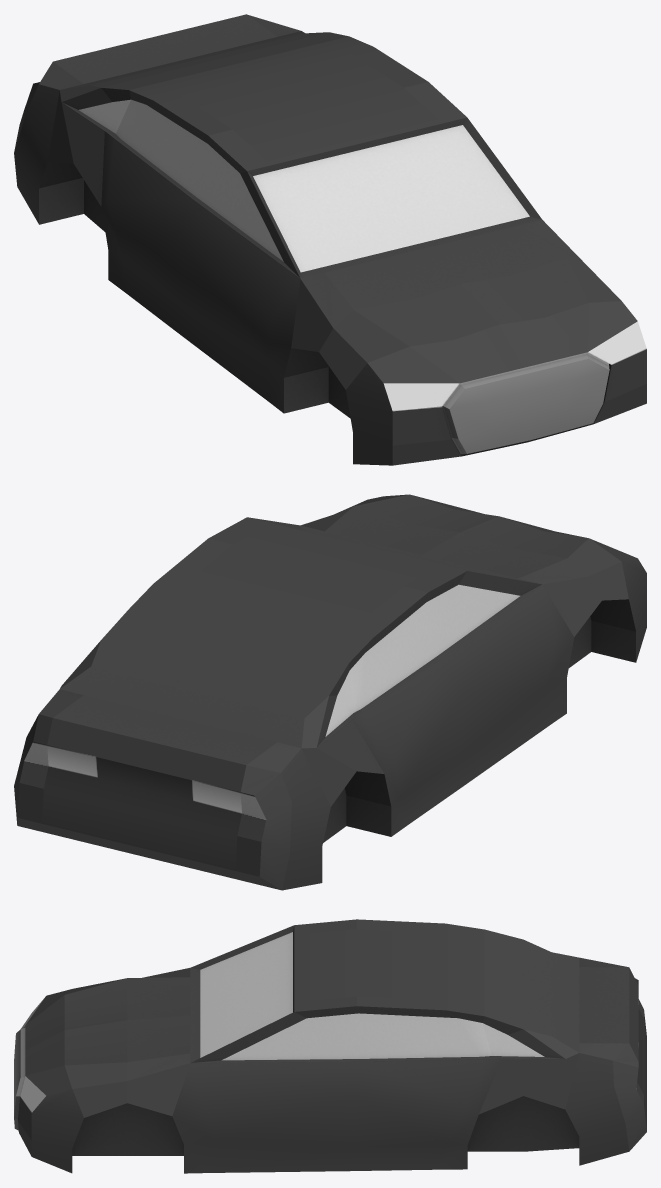
Rendered from CarModel1.fbx.
3 views of the same model, one above another, from view 1: azimuth 30°, elevation 25°; view 2: azimuth 150°, elevation 25°; view 3: azimuth 270°, elevation 25° (orthographic). The views are drawn at different scales.
Visible parts, largest first — view 1: Car:pCube4; view 2: Car:pCube4; view 3: Car:pCube4.
Boxes of the visible parts, x1,y1,x2,y2 form: Car:pCube4: (14, 14, 646, 465); Car:pCube4: (14, 494, 646, 890); Car:pCube4: (14, 919, 646, 1173).
Bounding box in the file's own units: 4.1 × 2.63 × 9.73.
Materials: 1 (1 with a texture image).
